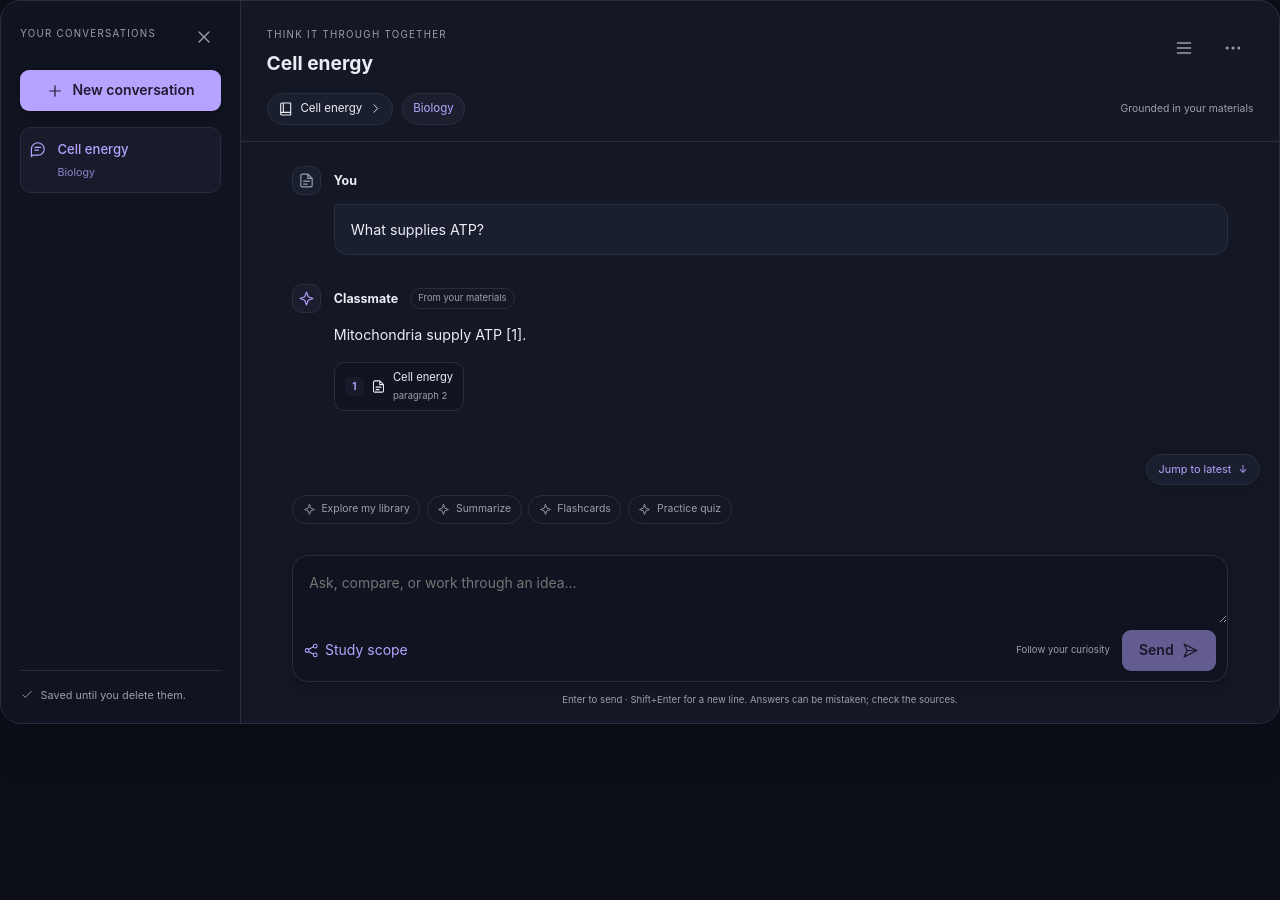
Test case: Complete study-chat interface › lets a reader return to the newest messages without losing the composer
The image size is (1280, 900).
Expected: the text "Mitochondria supply ATP [1]." is shown, top-left (334, 326), bottom-right (526, 343)
Click the button "Jump to latest ↓": [1203, 470] box top-left (1146, 454), bottom-right (1260, 485)
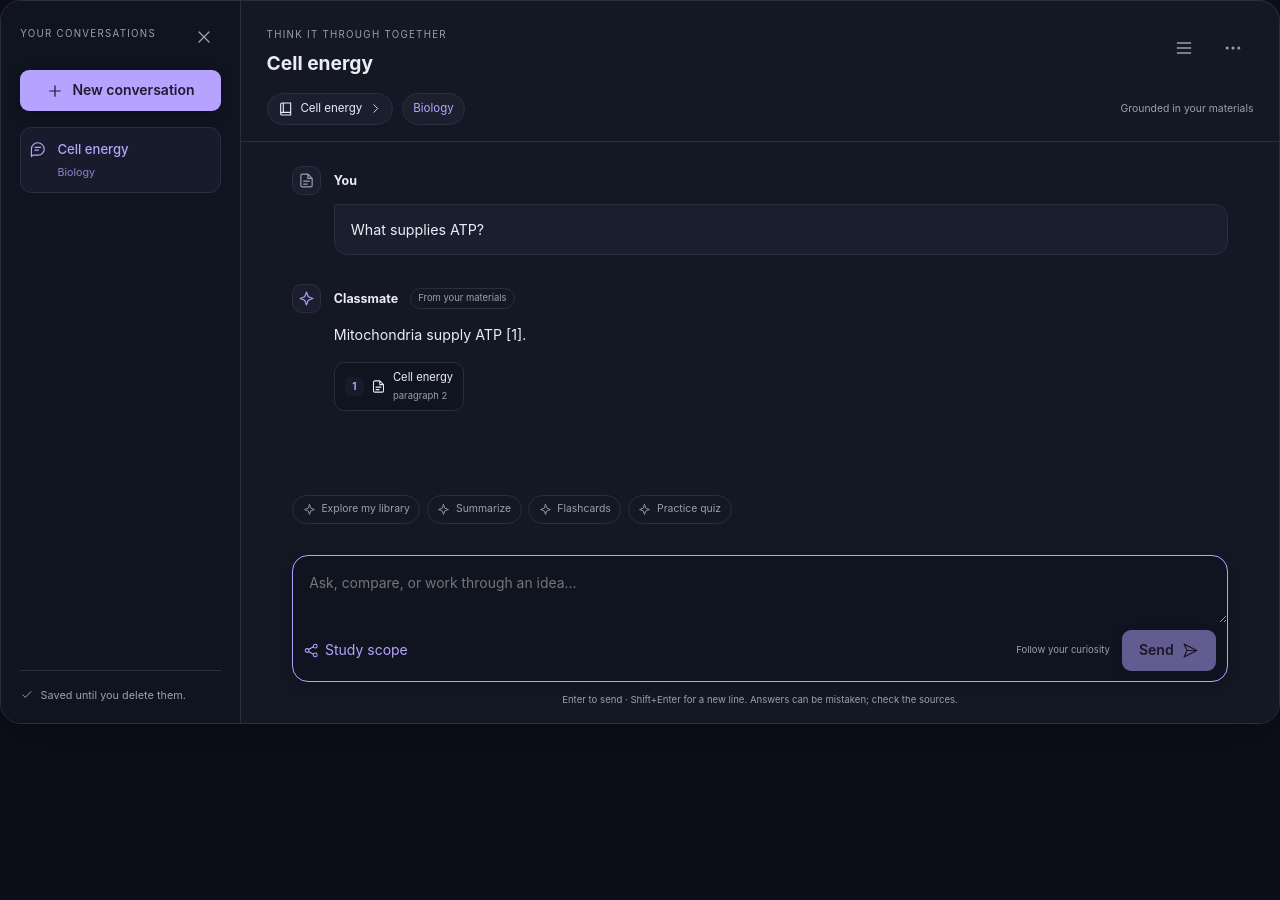
Now the button "Jump to latest" is gone
